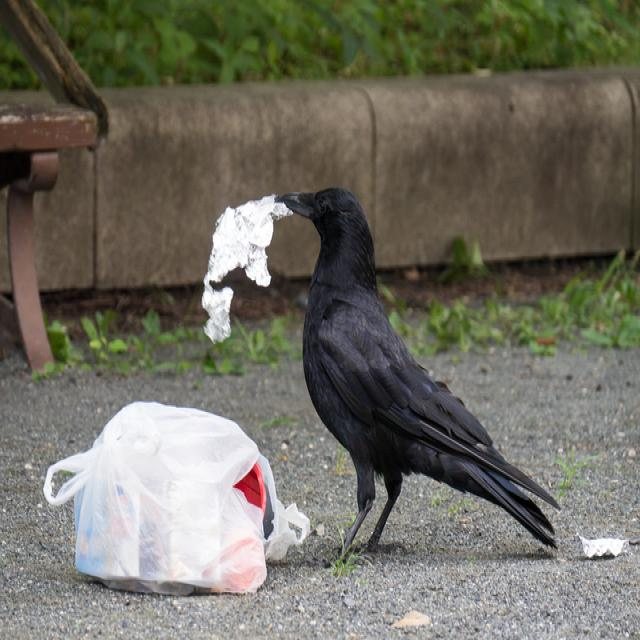crow: (261, 161, 574, 582)
